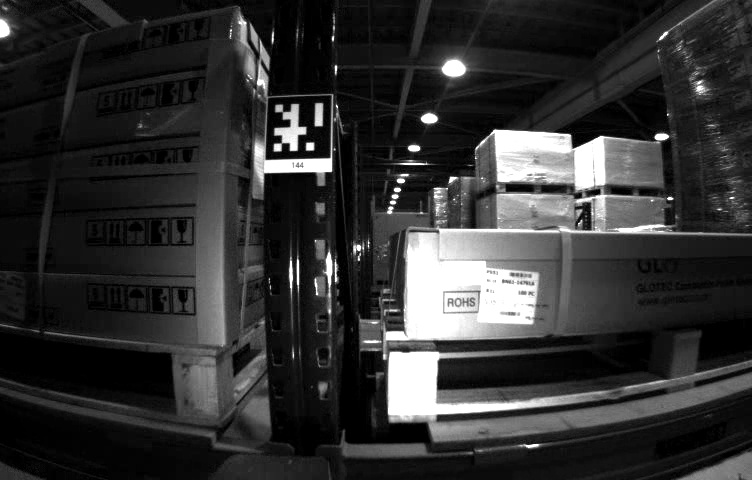True Barcode: (483, 264, 537, 332), (1, 271, 32, 319)
